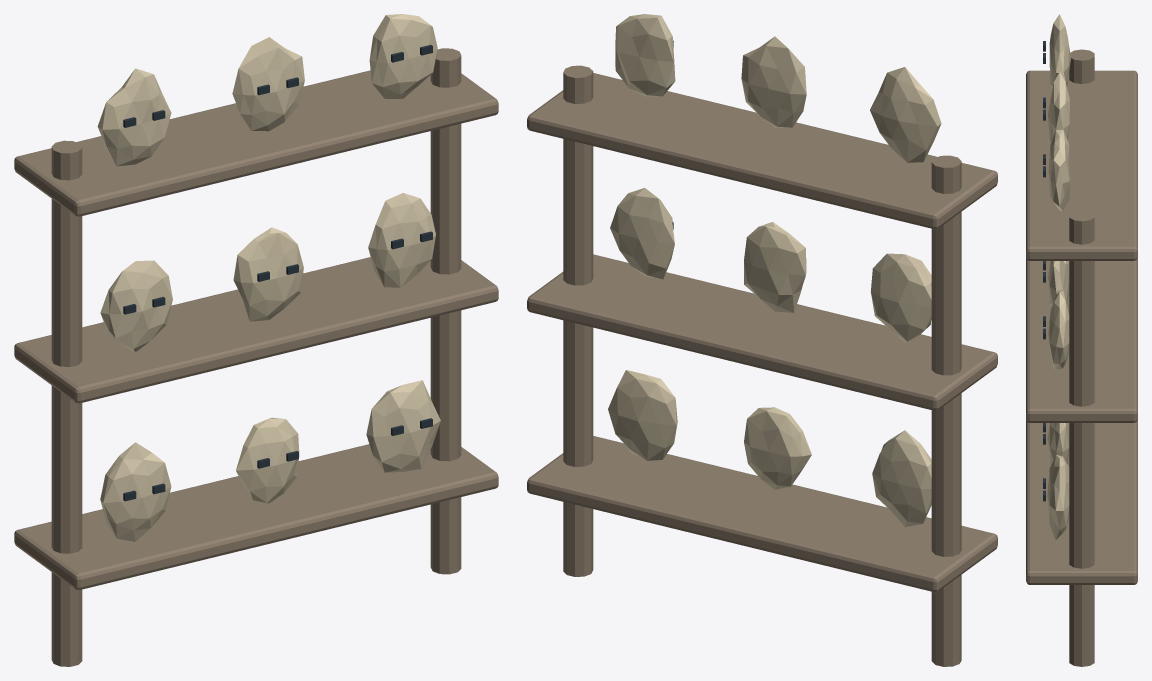
Rendered from a4_secondary.glb.
3 renders of one model, left to right at view 1: azimuth 30°, elevation 25°; view 2: azimuth 150°, elevation 25°; view 3: azimuth 270°, elevation 25°, orthographic. The views are drawn at different scales.
Parts seen in each view (by area): view 1: Body.080; view 2: Body.080; view 3: Body.080.
Part boxes in pixels (x1,y1,x2,y2): Body.080: (14,14,498,666); Body.080: (527,14,997,666); Body.080: (1026,14,1137,666).
Bounding box in the file's own units: 1.9 × 2.52 × 0.5.
